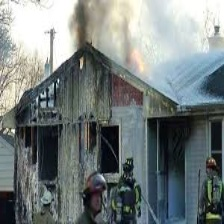smoke: (71, 5, 126, 76)
